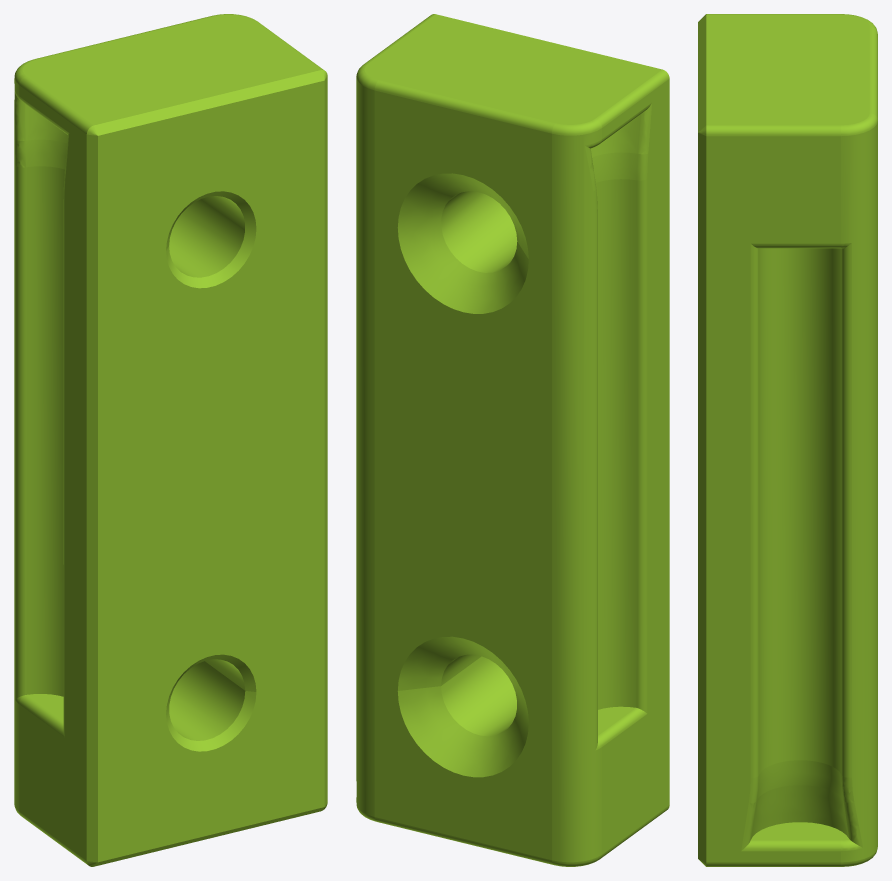
Rendered from longer-rails-petg-rail-method-1-block.glb.
3 views of the same model, side by side, from view 1: azimuth 30°, elevation 25°; view 2: azimuth 150°, elevation 25°; view 3: azimuth 270°, elevation 25° (orthographic).
Visible parts, largest first — view 1: Block_1; view 2: Block_1; view 3: Block_1.
Part boxes in pixels (box(x1,y1,x2,y2)): Block_1: box(14, 14, 327, 866); Block_1: box(356, 14, 669, 866); Block_1: box(698, 14, 877, 866).
Size of the model in its own units: 13.6 by 40 by 8.8.
